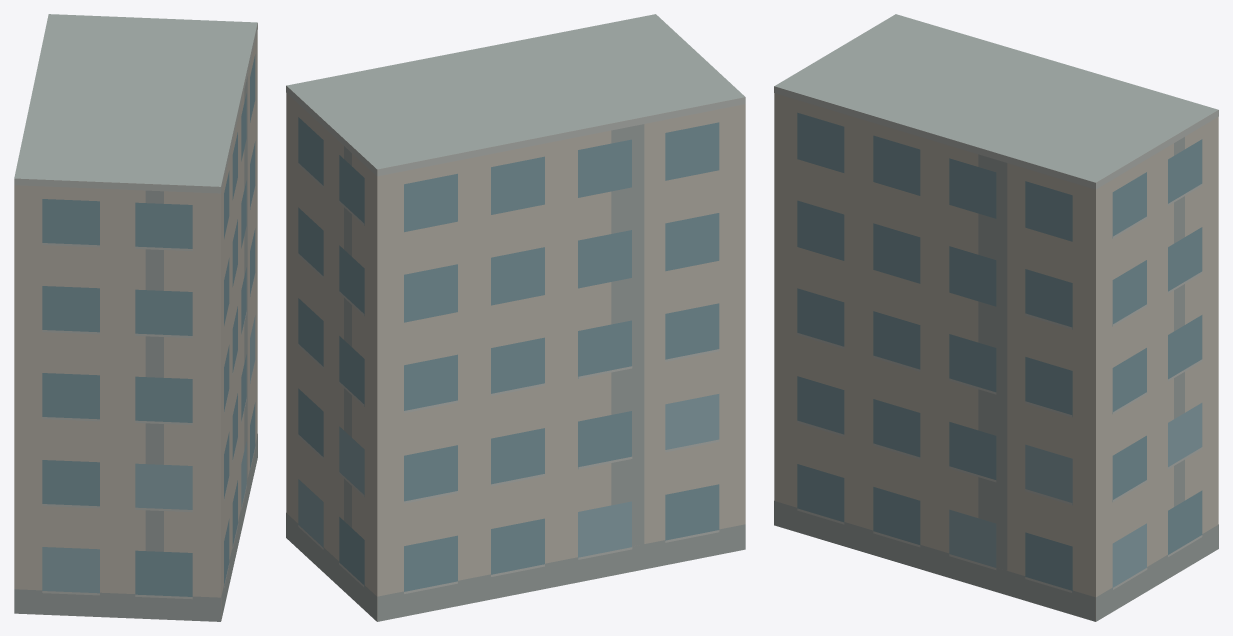
Rendered from survey-upis-33043669.glb.
3 views of the same model, side by side, from view 1: azimuth 30°, elevation 25°; view 2: azimuth 150°, elevation 25°; view 3: azimuth 270°, elevation 25° (orthographic). The views are drawn at different scales.
Parts seen in each view (by area): view 1: survey-upis-33043669.tmp; view 2: survey-upis-33043669.tmp; view 3: survey-upis-33043669.tmp.
Boxes of the visible parts, <box> form: survey-upis-33043669.tmp: <box>14,14,257,621</box>; survey-upis-33043669.tmp: <box>286,14,745,621</box>; survey-upis-33043669.tmp: <box>774,14,1218,621</box>.
Bounding box in the file's own units: 12.99 × 15.75 × 14.46.
